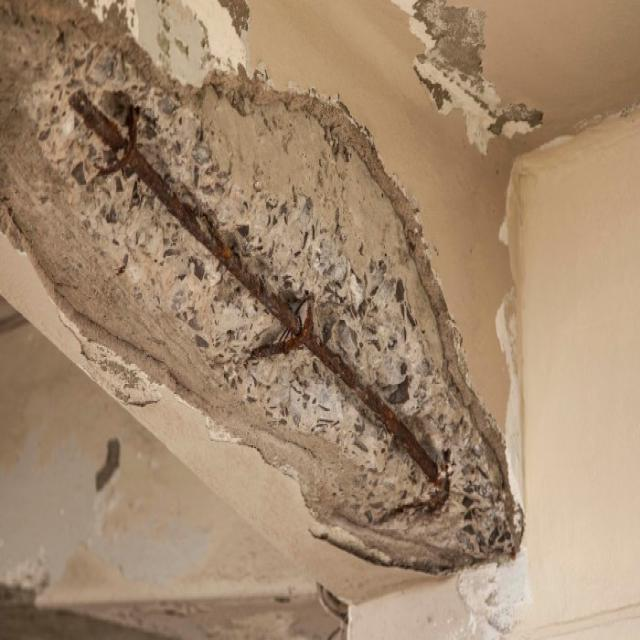Spalling: (40, 58, 492, 552)
